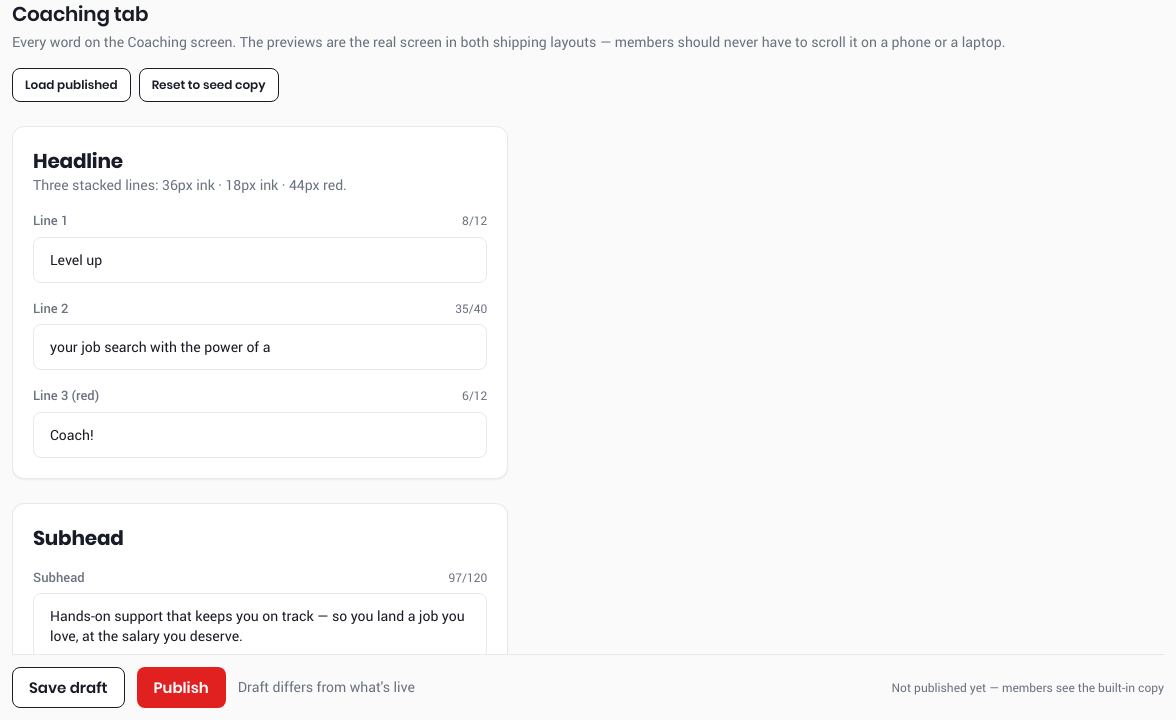
Scenario: Admin → Coaching tab › prefers the draft over the published copy and mirrors typing into the preview
expect the field labelled "Line 1" holds "Level up": met, box [33,236,487,282]
Replace the text in the field labelled "Line 3 (red)" with "Mentor!" at (260, 434), box [33,412,487,458]
(page scrolled)
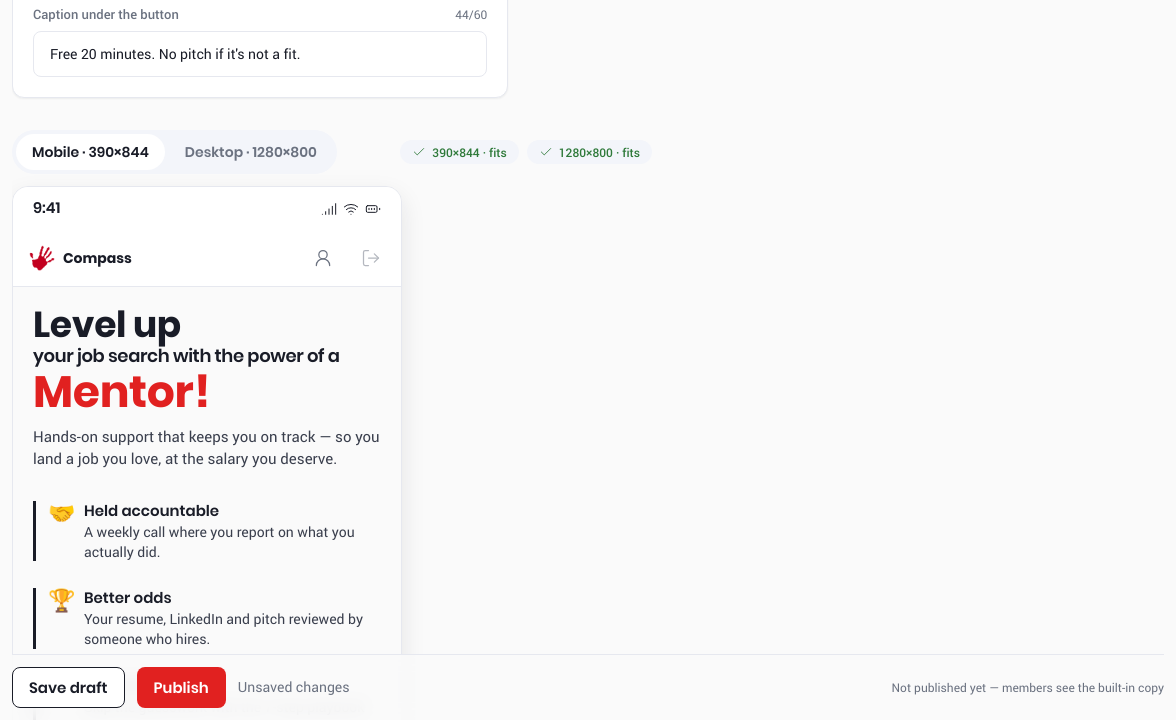
expect the heading shows "Level up": met, box [33,298,181,350]
expect the heading shows "Mentor!": met, box [33,361,210,422]
